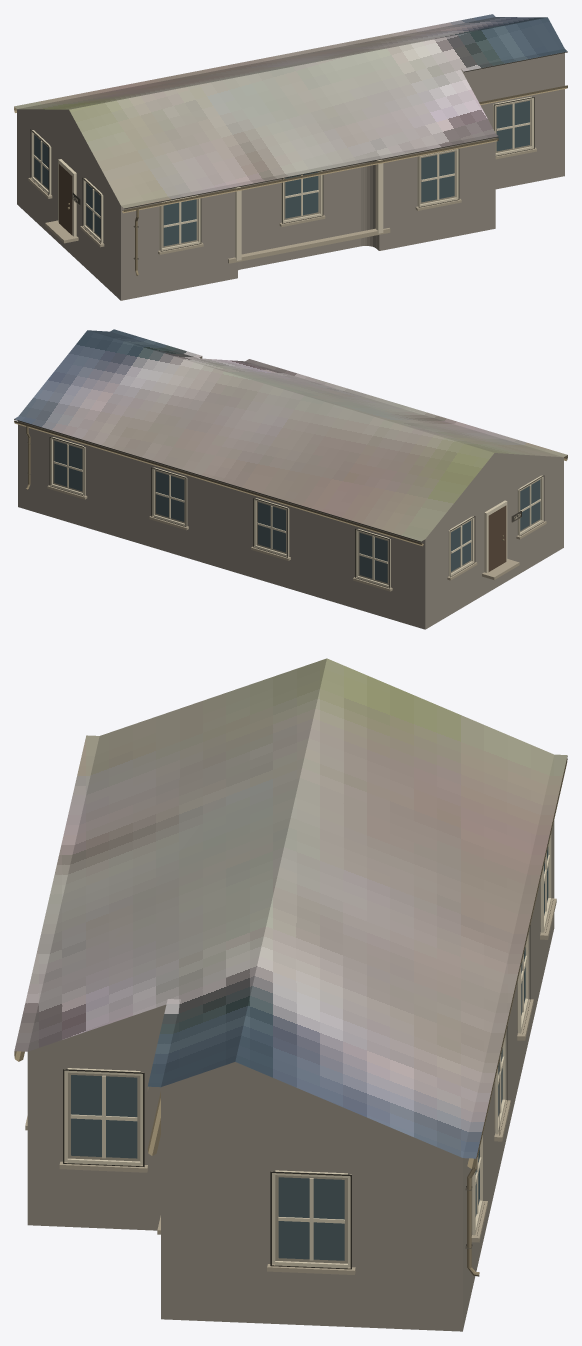
The picture shows the model from 3 angles, top to bottom: view 1: azimuth 30°, elevation 25°; view 2: azimuth 150°, elevation 25°; view 3: azimuth 270°, elevation 25°; orthographic projection. The views are drawn at different scales.
Parts seen in each view (by area): view 1: 0_16_638335731_0; view 2: 0_16_638335731_0; view 3: 0_16_638335731_0.
Part boxes in pixels (x1,y1,x2,y2): 0_16_638335731_0: (14,14,567,300); 0_16_638335731_0: (14,329,567,629); 0_16_638335731_0: (14,658,567,1331).
Size of the model in its own units: 18.12 by 5.15 by 9.93.
Materials: 10 (1 with a texture image).
